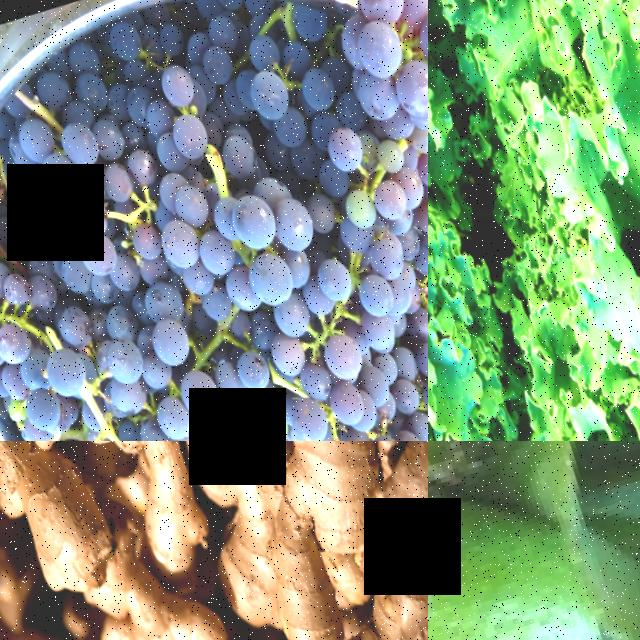ginger: (268, 456, 428, 640), (36, 531, 305, 640), (0, 441, 172, 610), (244, 441, 428, 515)
grapes: (134, 119, 428, 441), (0, 179, 264, 441), (259, 0, 428, 294), (356, 230, 428, 441)
lemon: (428, 441, 640, 640), (428, 441, 514, 607)
lettuce: (428, 0, 640, 441), (428, 0, 575, 441)
